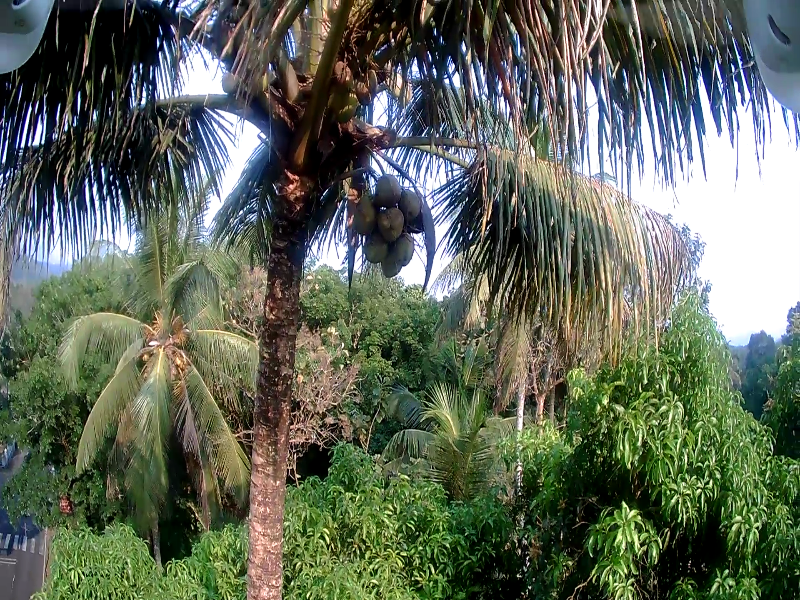coconut: (334, 99, 367, 129), (393, 229, 419, 265), (376, 248, 402, 279), (218, 66, 241, 101), (350, 75, 377, 101), (363, 233, 387, 262), (373, 176, 401, 200), (351, 200, 375, 227), (381, 210, 403, 239), (400, 191, 417, 211)
